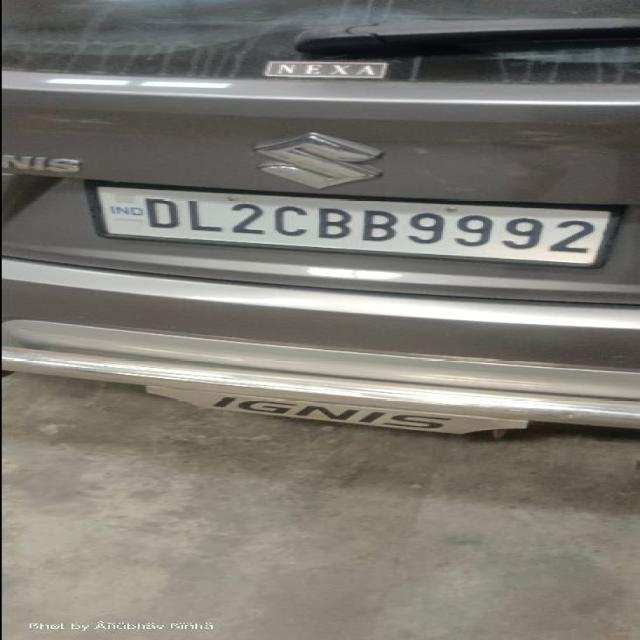license_plate: (82, 178, 626, 268), (141, 384, 530, 436)
